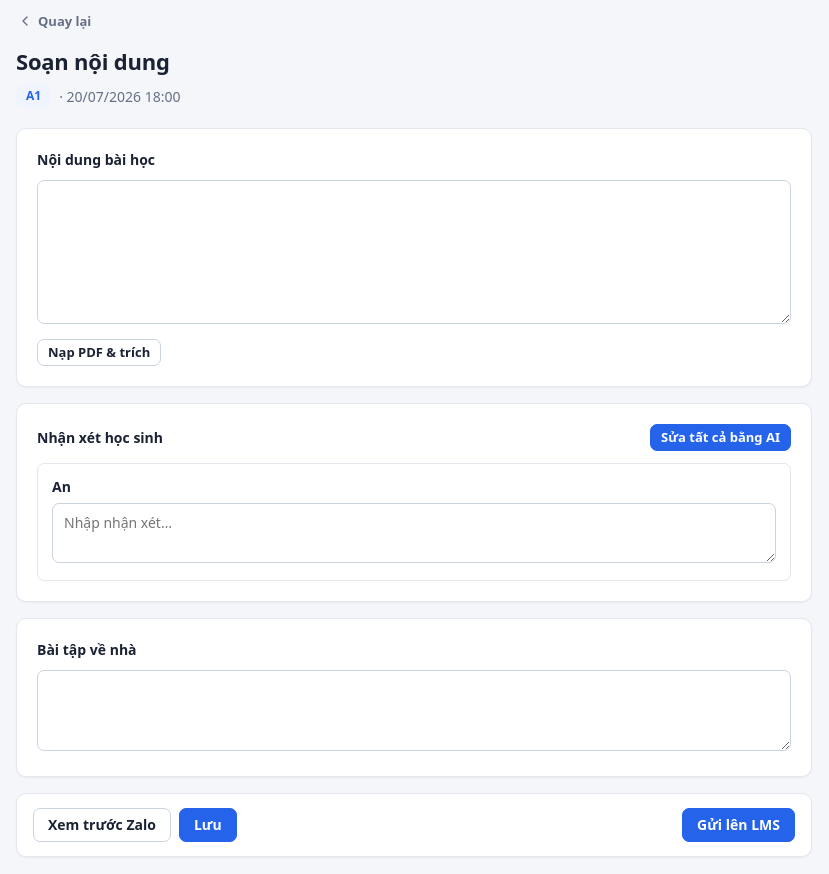
Test case: SessionComposer › "Nạp PDF & trích" điền nội dung bài học
Click the button "Nạp PDF & trích": (99,352) left=37, top=339, right=161, bottom=366
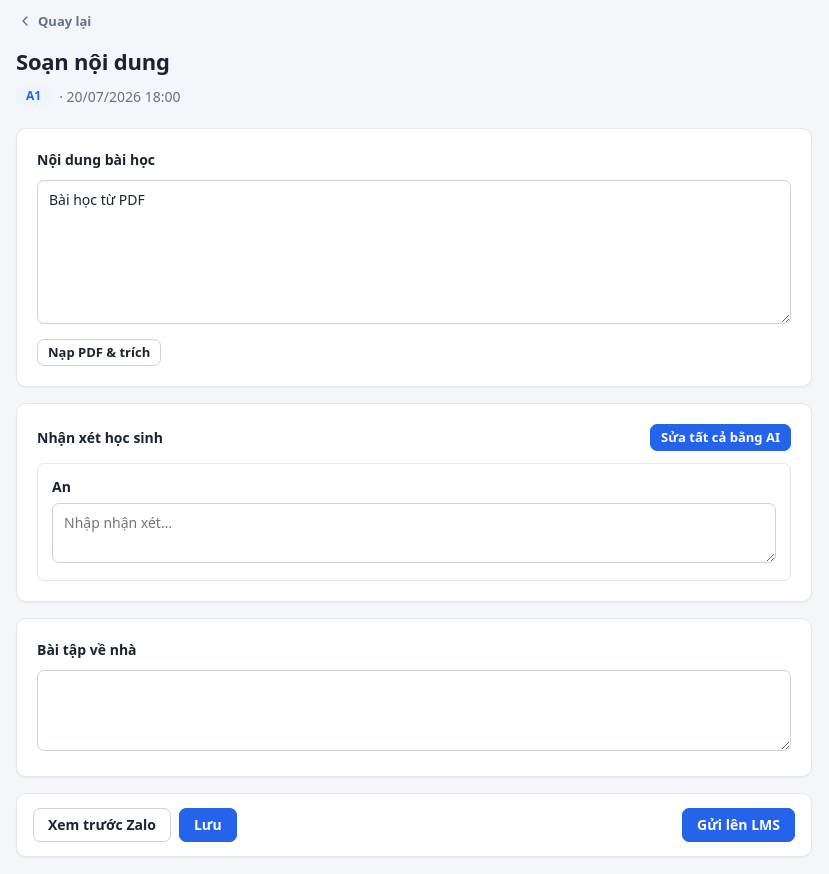
Check: the text box named "nội dung bài học" below "Nội dung bài học" holds "Bài học từ PDF", box left=37, top=180, right=791, bottom=324
